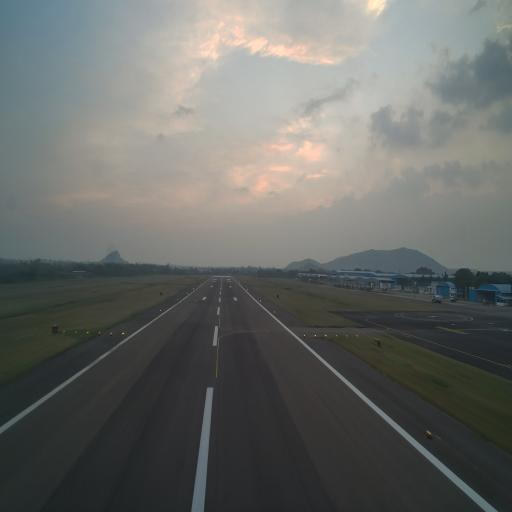on: (426, 428, 432, 438), (62, 329, 66, 335), (86, 330, 90, 335), (75, 329, 78, 335), (110, 331, 113, 336), (314, 334, 317, 339), (324, 333, 327, 338), (335, 334, 338, 338), (122, 332, 124, 336), (346, 334, 348, 338), (356, 334, 358, 338), (98, 331, 100, 334), (304, 334, 306, 337)
